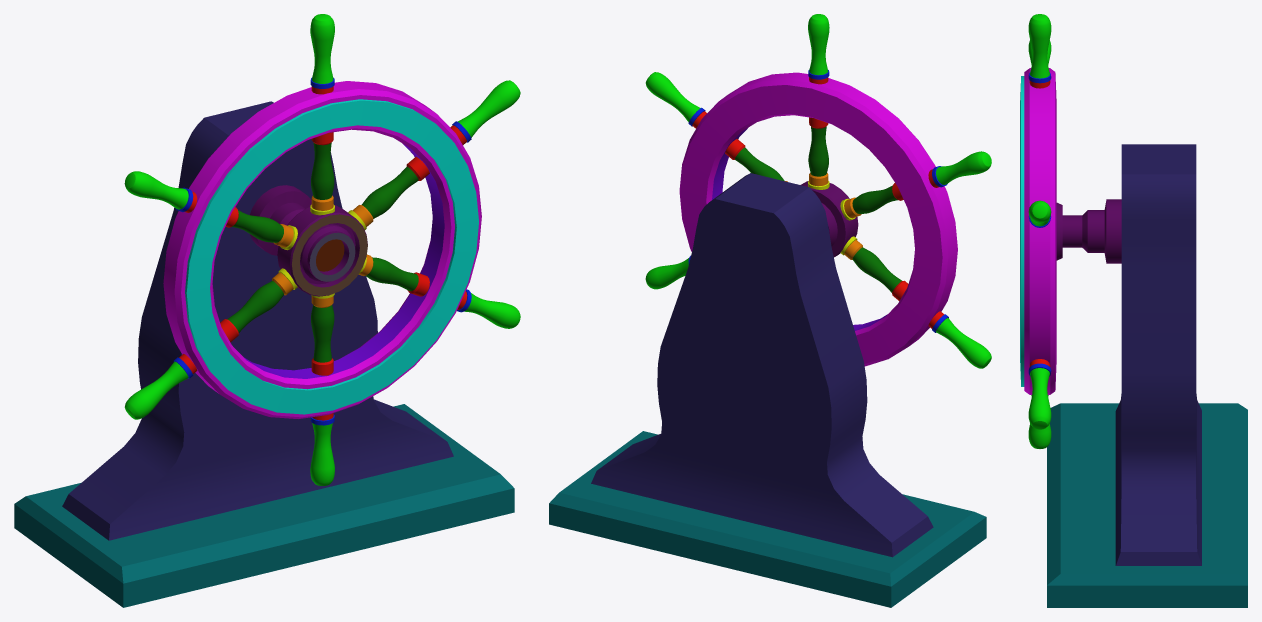
Rendered from Helm.glb.
The picture shows the model from 3 angles, left to right: view 1: azimuth 30°, elevation 25°; view 2: azimuth 150°, elevation 25°; view 3: azimuth 270°, elevation 25°; orthographic projection. The views are drawn at different scales.
Parts seen in each view (by area): view 1: Cube; view 2: Cube; view 3: Cube.
Part boxes in pixels (box(x1,y1,x2,y2)): Cube: box(14, 14, 520, 607); Cube: box(549, 14, 991, 607); Cube: box(1020, 14, 1247, 607).
Bounding box in the file's own units: 4.7 × 6.25 × 2.56.
